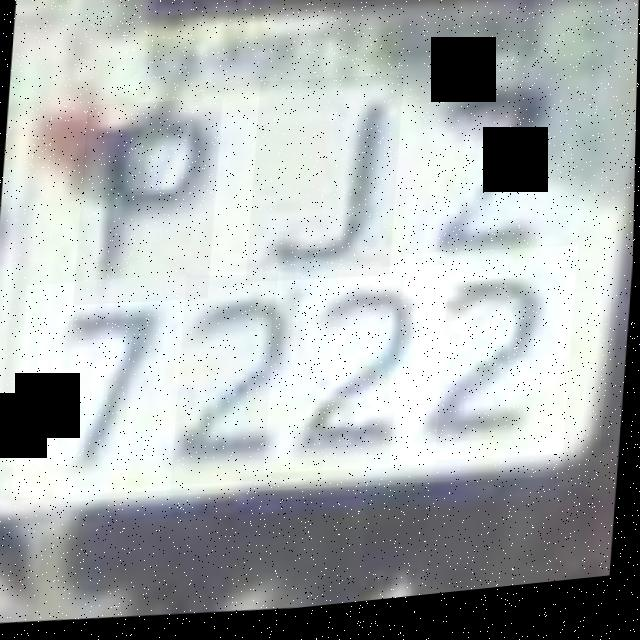2: (130, 267, 339, 501), (393, 249, 580, 481), (266, 265, 451, 489)
7: (14, 273, 188, 507)
J: (247, 76, 405, 296)
P: (74, 97, 223, 315)
Z: (416, 75, 568, 274)
